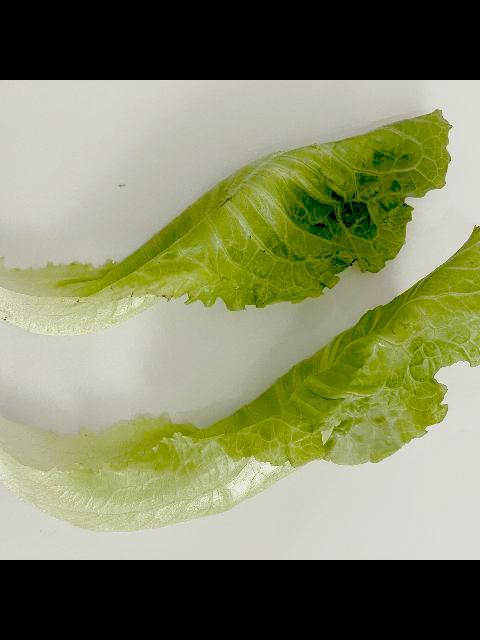lettuce: (0, 224, 480, 536), (0, 106, 453, 337)
